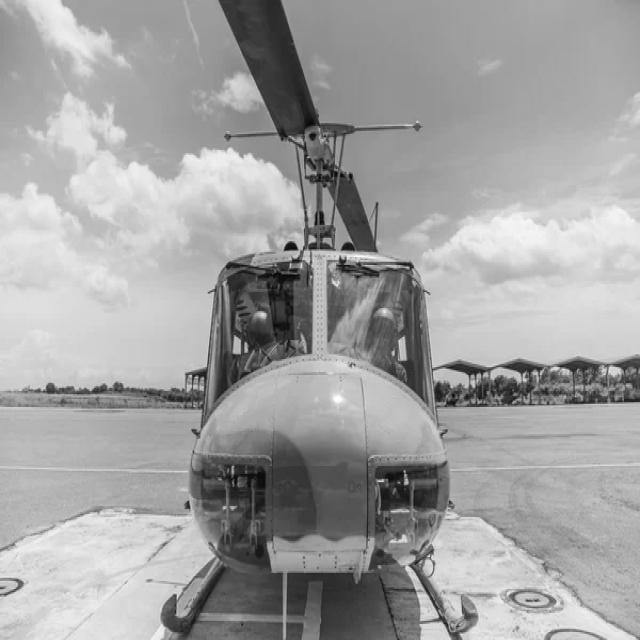Helicopter: (162, 0, 477, 634)
